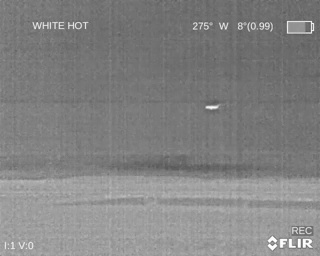AIRPLANE: (204, 103, 220, 111)
